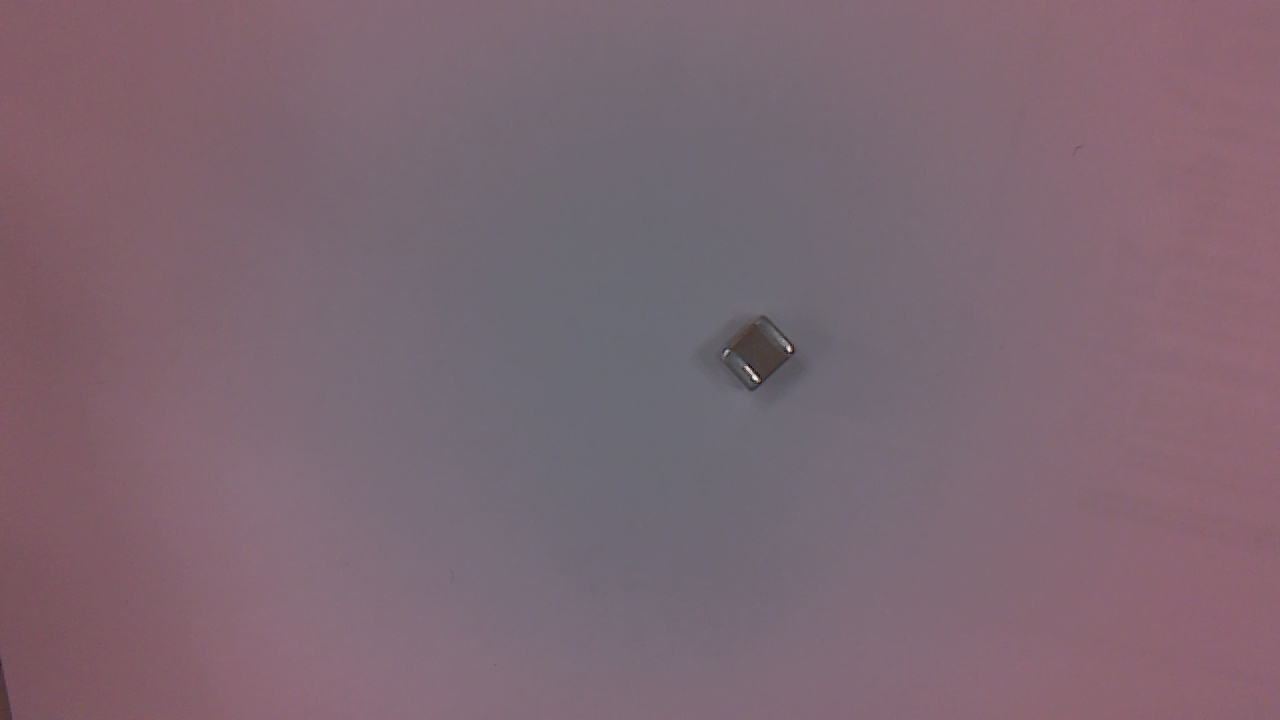Condensator: (724, 319, 800, 397)
